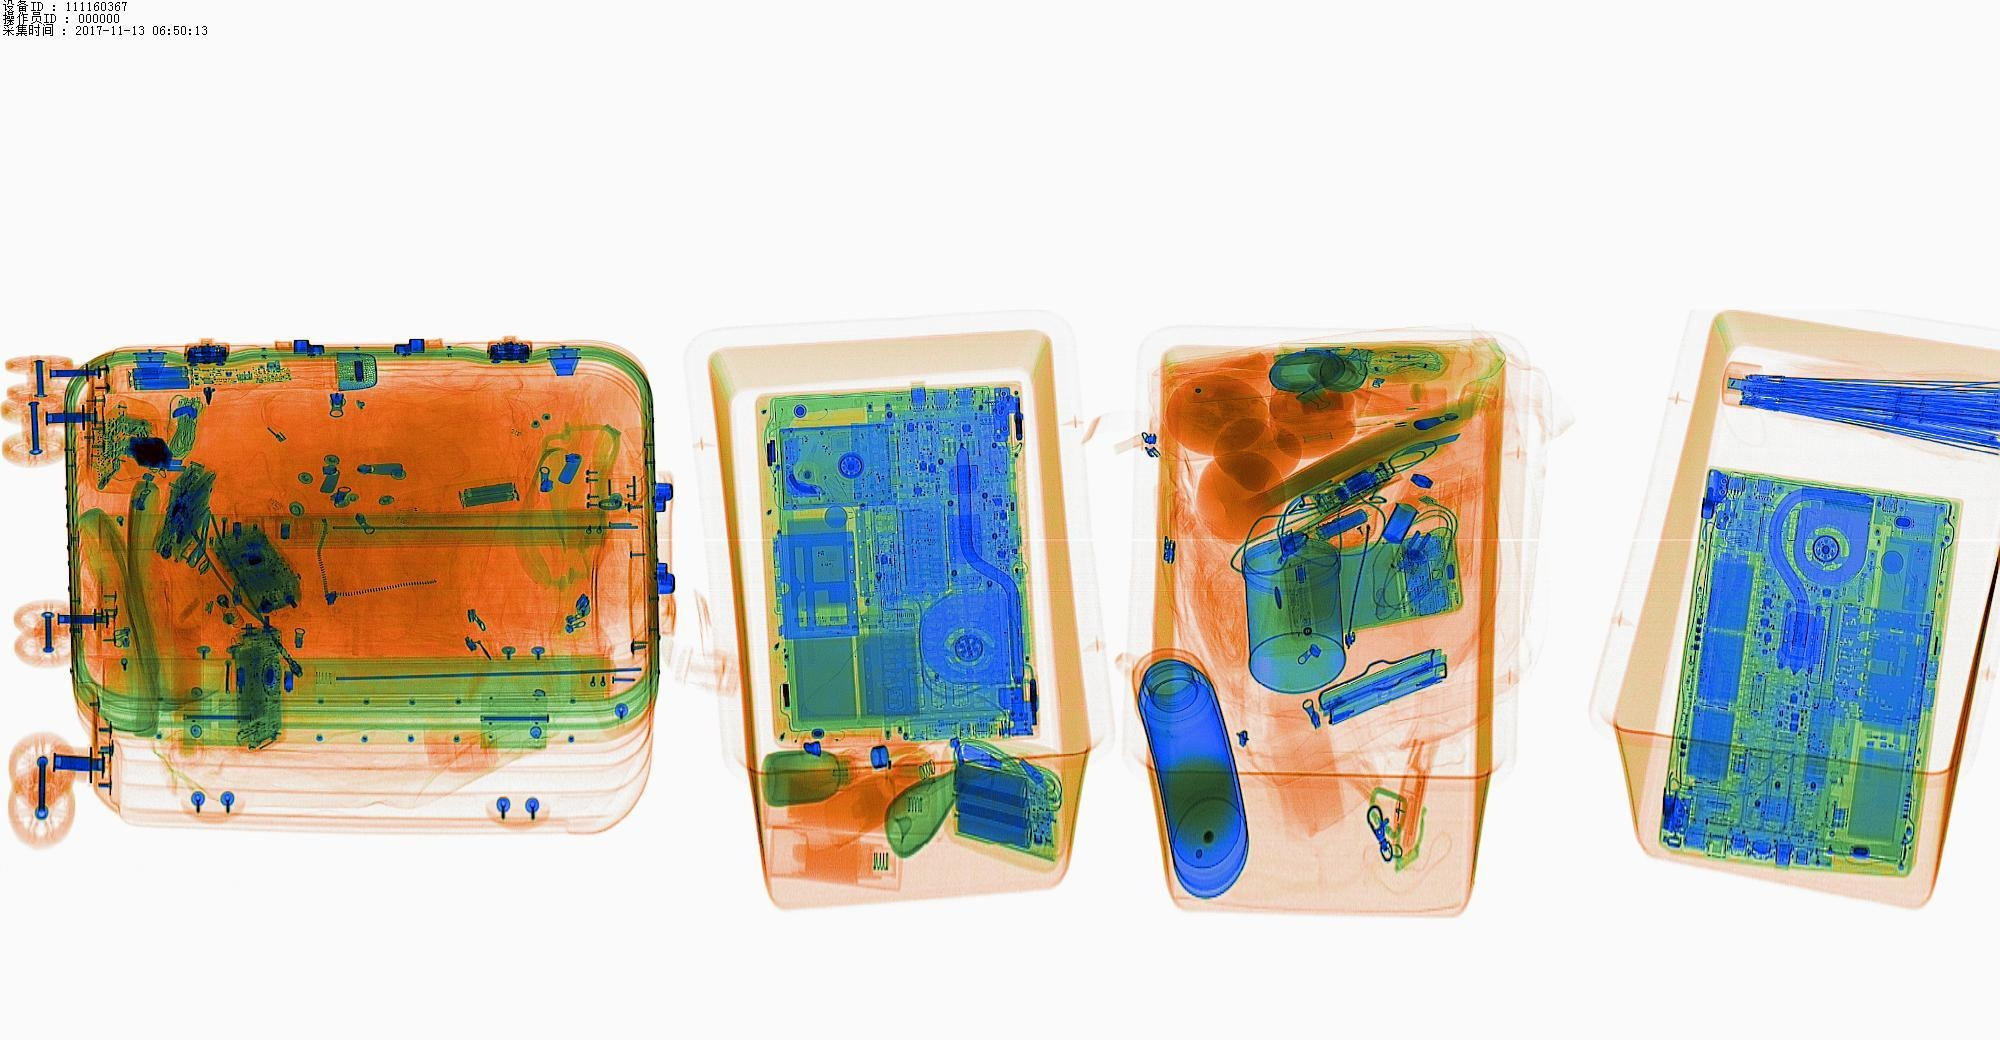core: (955, 759, 1063, 861)
